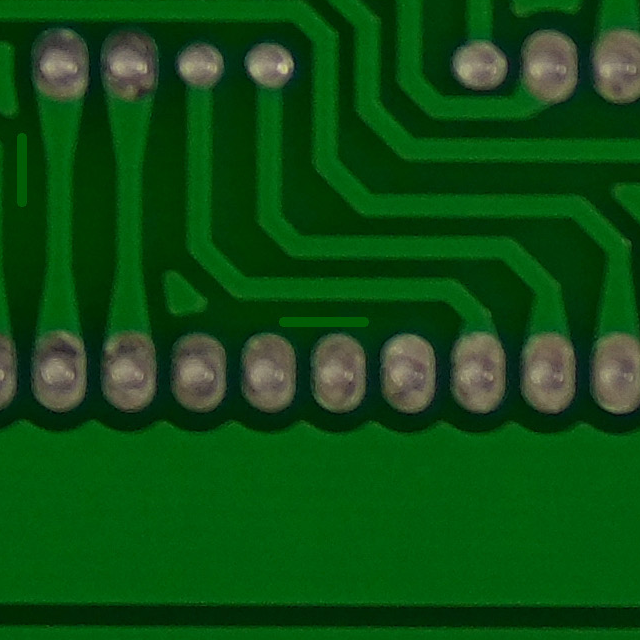spurious_copper: (261, 298, 380, 343), (0, 116, 44, 217)
